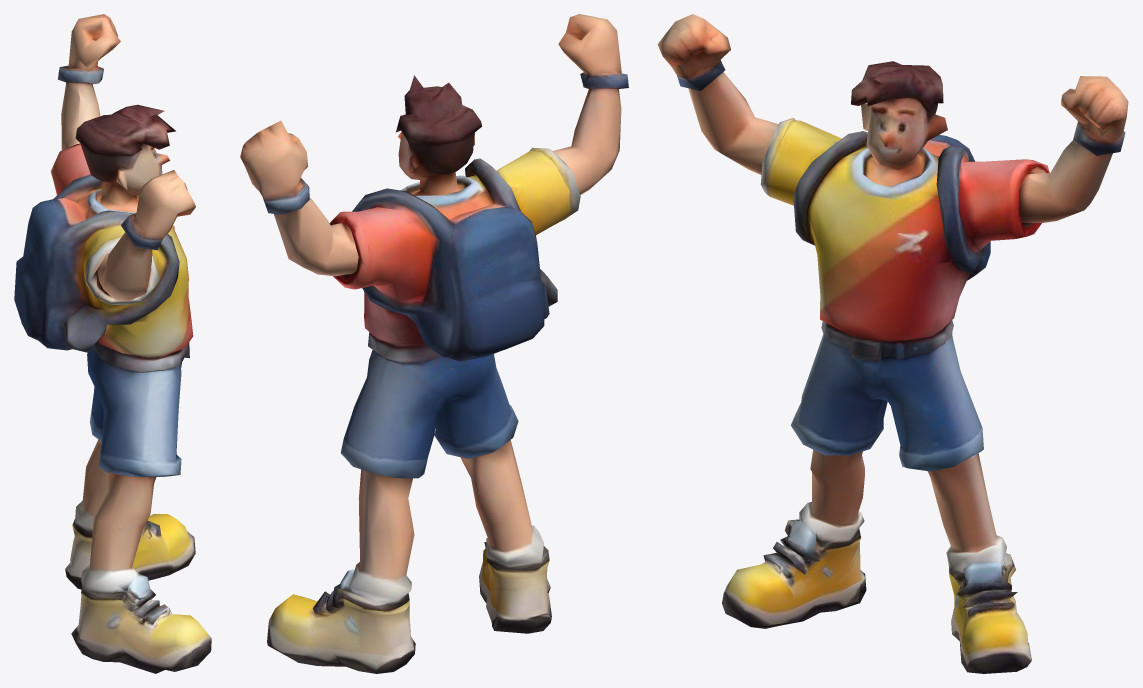
The model's file is torcedor.glb.
3 renders of one model, left to right at view 1: azimuth 30°, elevation 25°; view 2: azimuth 150°, elevation 25°; view 3: azimuth 270°, elevation 25°, orthographic. The views are drawn at different scales.
Visible parts, largest first — view 1: tripo_node_2a0aca7d-440f-4576-9f0e-ae7815679e67; view 2: tripo_node_2a0aca7d-440f-4576-9f0e-ae7815679e67; view 3: tripo_node_2a0aca7d-440f-4576-9f0e-ae7815679e67.
Part boxes in pixels (x1=…): tripo_node_2a0aca7d-440f-4576-9f0e-ae7815679e67: x1=14, y1=14, x2=211, y2=673; tripo_node_2a0aca7d-440f-4576-9f0e-ae7815679e67: x1=240, y1=14, x2=628, y2=673; tripo_node_2a0aca7d-440f-4576-9f0e-ae7815679e67: x1=657, y1=14, x2=1128, y2=673.
Bounding box in the file's own units: 0.4159 × 1 × 0.7341.
Materials: 1 (1 with a texture image).
